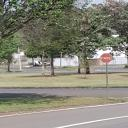Pare: (100, 53, 112, 63)
